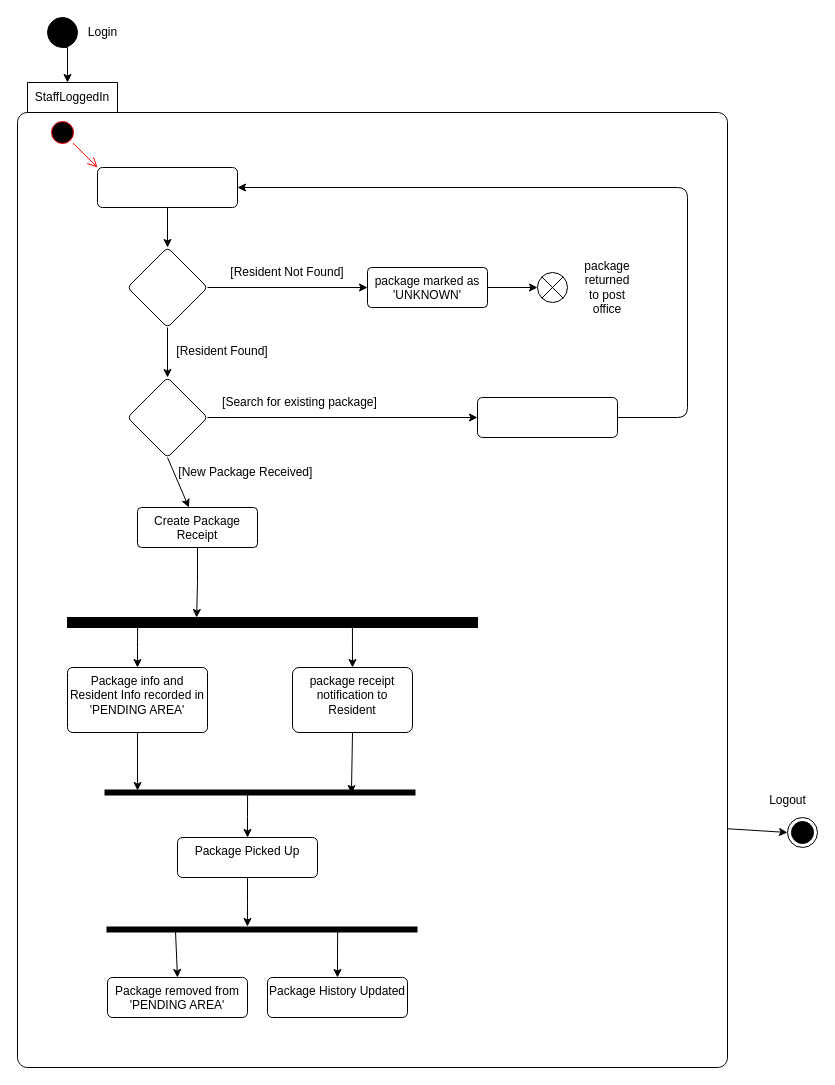
This 835x1085 diagram has some shape labels left out. The centre of each missing label's shape, as x and y in pixels:
"SearchResident" belongs at pixel 167 187.
"View package history" belongs at pixel 547 417.
